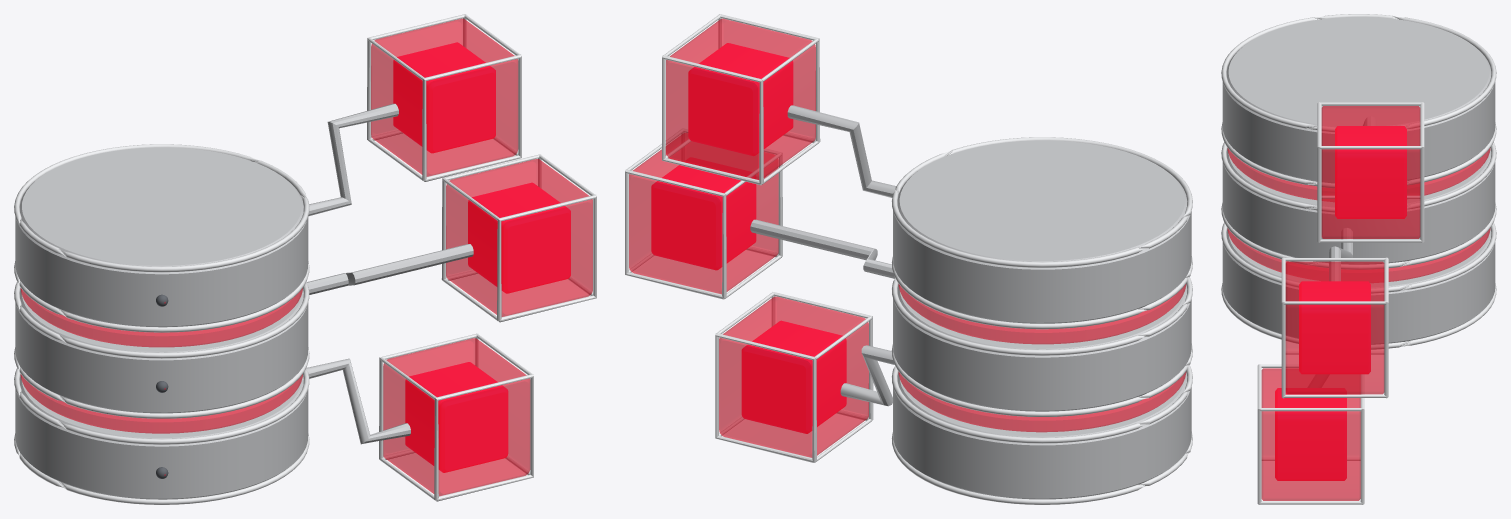
Rendered from 02-data-architecture.glb.
3 renders of one model, left to right at view 1: azimuth 30°, elevation 25°; view 2: azimuth 150°, elevation 25°; view 3: azimuth 270°, elevation 25°, orthographic. The views are drawn at different scales.
Visible parts, largest first — view 1: BC satin iron, BC ruby optical glass, BC internal ruby light, BC polished iron bevel; view 2: BC satin iron, BC ruby optical glass, BC internal ruby light, BC polished iron bevel; view 3: BC satin iron, BC ruby optical glass, BC internal ruby light, BC polished iron bevel.
Part boxes in pixels (left/top/right/bottom): BC satin iron: left=15, top=103, right=473, bottom=499; BC ruby optical glass: left=20, top=18, right=592, bottom=496; BC internal ruby light: left=393, top=42, right=570, bottom=472; BC polished iron bevel: left=14, top=14, right=596, bottom=504; BC satin iron: left=750, top=105, right=1191, bottom=499; BC ruby optical glass: left=629, top=18, right=1186, bottom=457; BC internal ruby light: left=651, top=43, right=846, bottom=433; BC polished iron bevel: left=625, top=14, right=1192, bottom=504; BC satin iron: left=1222, top=17, right=1495, bottom=344; BC ruby optical glass: left=1227, top=106, right=1490, bottom=500; BC internal ruby light: left=1275, top=126, right=1406, bottom=480; BC polished iron bevel: left=1221, top=14, right=1496, bottom=504.
Bounding box in the file's own units: 2.35 × 1.7 × 1.15.
